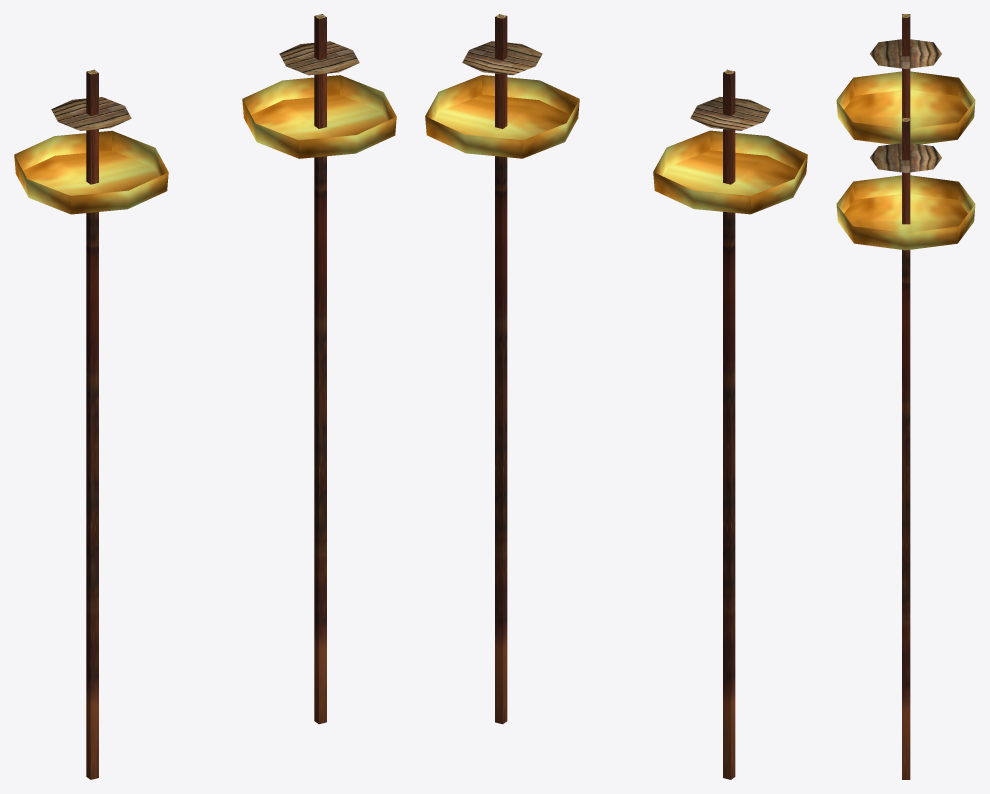
Rendered from cc_prop.dae.
The picture shows the model from 3 angles, left to right: view 1: azimuth 30°, elevation 25°; view 2: azimuth 150°, elevation 25°; view 3: azimuth 270°, elevation 25°; orthographic projection. The views are drawn at different scales.
Parts seen in each view (by area): view 1: cc.001; view 2: cc.001; view 3: cc.001.
Boxes of the visible parts, x1=… form: cc.001: x1=14, y1=14, x2=396, y2=779; cc.001: x1=425, y1=14, x2=807, y2=779; cc.001: x1=836, y1=14, x2=975, y2=779.
Size of the model in its own units: 8.33 by 3.02 by 15.76.
